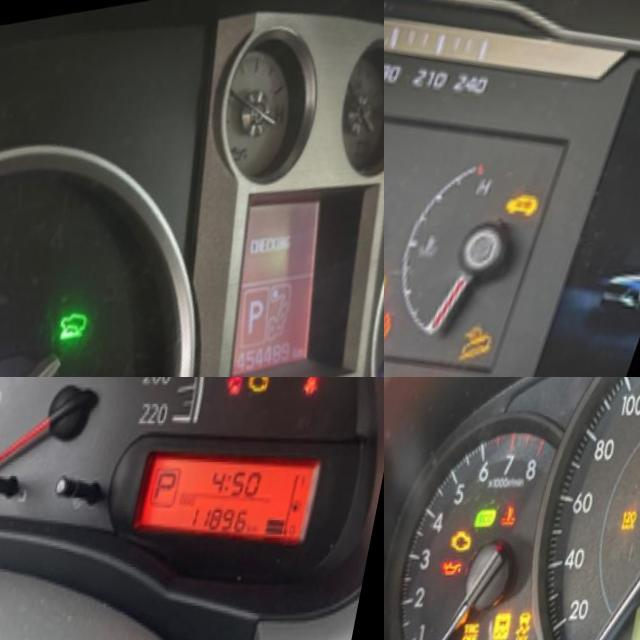High Engine Coolant Temperature: (511, 503, 530, 529)
security: (512, 187, 559, 224)
